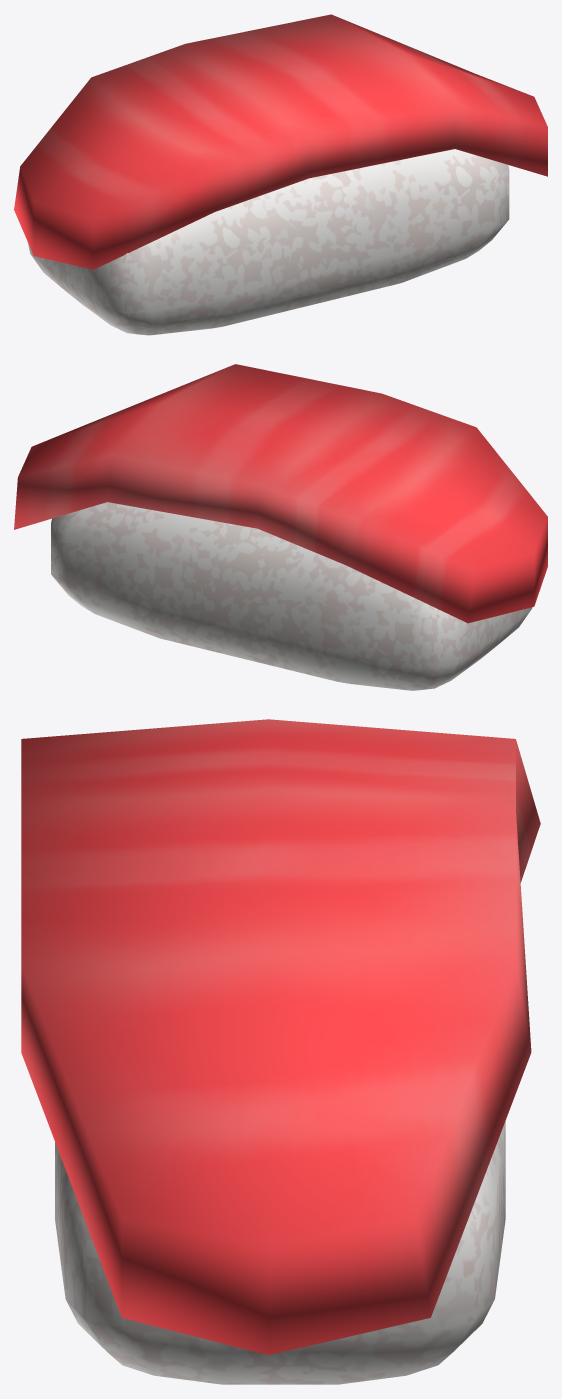
File: Hamachi.fbx
The picture shows the model from 3 angles, top to bottom: view 1: azimuth 30°, elevation 25°; view 2: azimuth 150°, elevation 25°; view 3: azimuth 270°, elevation 25°; orthographic projection. The views are drawn at different scales.
Visible parts, largest first — view 1: Hamachi; view 2: Hamachi; view 3: Hamachi.
Part boxes in pixels (bbox=[...]): Hamachi: bbox=[14, 14, 547, 335]; Hamachi: bbox=[14, 364, 547, 690]; Hamachi: bbox=[21, 719, 540, 1384].
Size of the model in its own units: 1.41 by 0.6316 by 0.5751.
